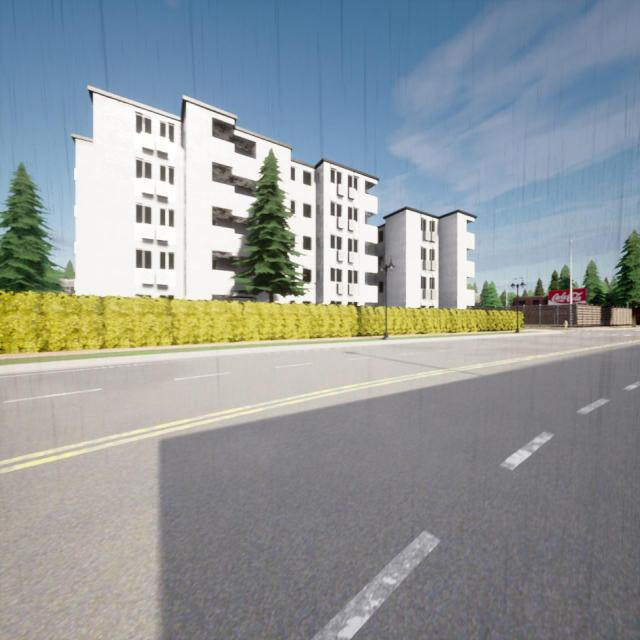Pedestrian: (564, 318, 568, 330)
